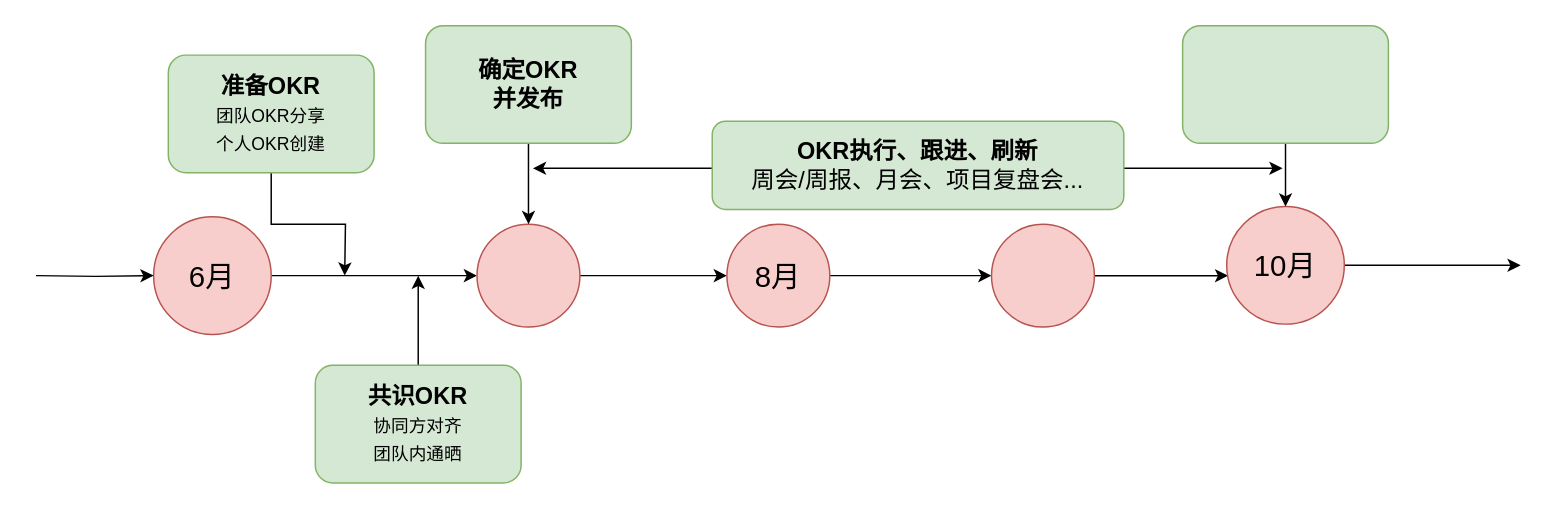
Image size: 1558x509. Some labels were removed from this diagram. Here are the shapes that lost their labels. From the top down, the centre of each, then its label:
At (1284,83): "季度OKR Review".
At (528,275): "7月".
At (1042,275): "9月".
